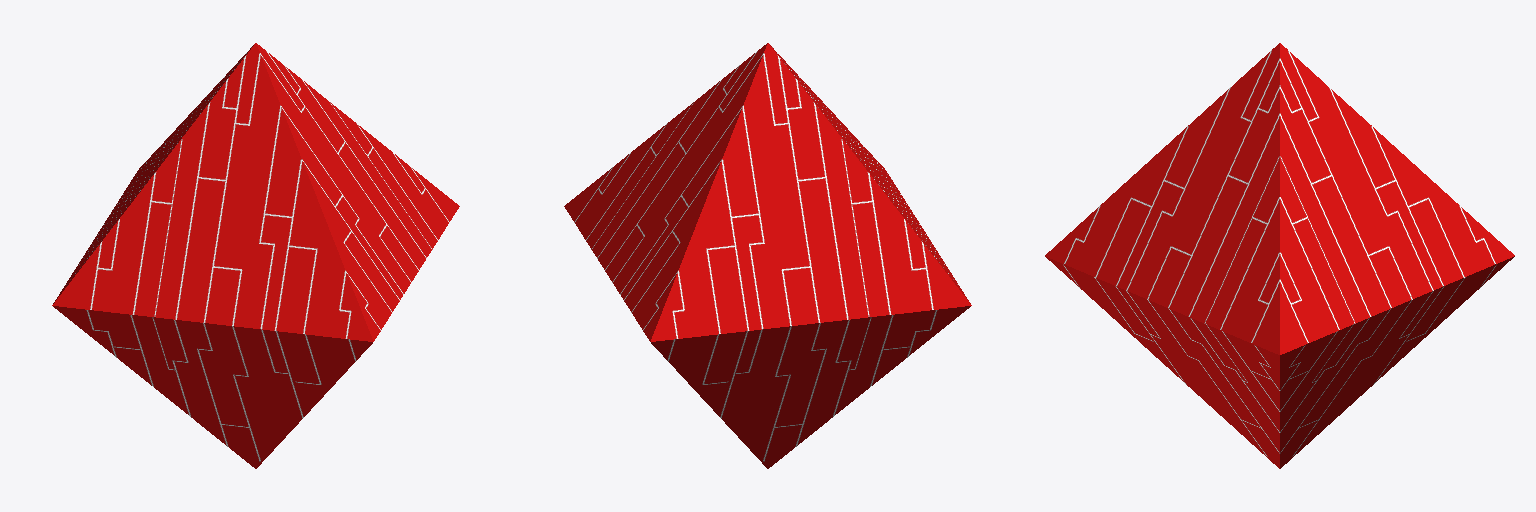
3 renders of one model, left to right at view 1: azimuth 30°, elevation 25°; view 2: azimuth 150°, elevation 25°; view 3: azimuth 270°, elevation 25°, orthographic.
Parts seen in each view (by area): view 1: ICO球; view 2: ICO球; view 3: ICO球.
Part boxes in pixels (x1,y1,x2,y2): ICO球: (52, 43, 459, 468); ICO球: (564, 43, 971, 468); ICO球: (1045, 43, 1514, 468).
Size of the model in its own units: 9.6 by 9.6 by 9.6.
Materials: 1 (1 with a texture image).